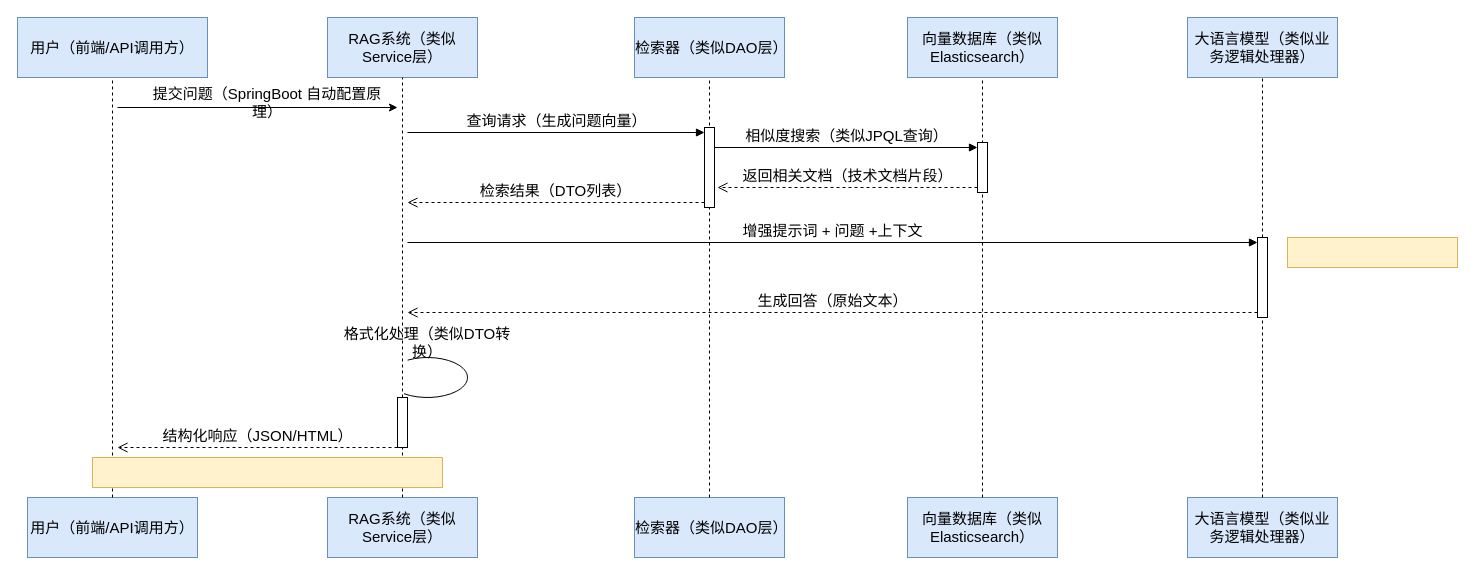
The diagram is 1475 pixels wide and 575 high, and some of its shapes have lost their labels. Each missing label, with the centre of its shape:
完整流程耗时 500-800ms （类似复杂业务调用）: [267,472]
类似Service处理业务逻辑: [1372,252]
